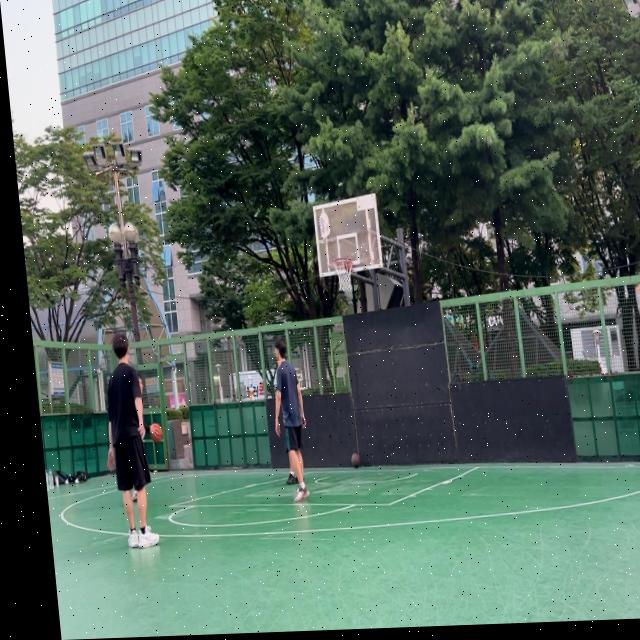basketball: (150, 421, 164, 444), (351, 452, 361, 469)
hoop: (332, 257, 356, 292)
